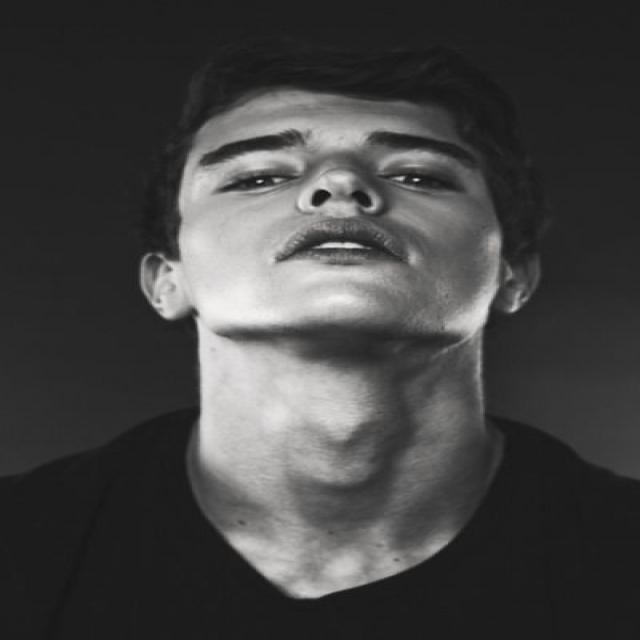earlobe: (138, 251, 190, 321), (494, 240, 541, 315)
